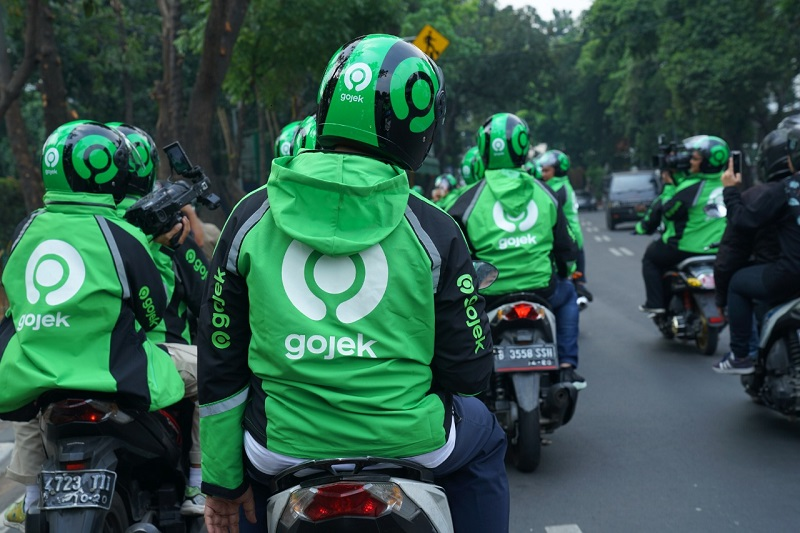plate: (33, 470, 115, 510), (495, 345, 558, 370)
